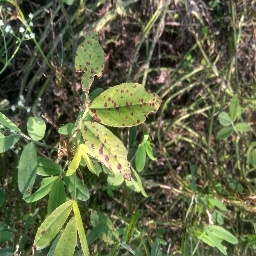GroundNut_Leaf: (90, 82, 161, 127), (75, 129, 132, 181), (33, 197, 74, 250), (75, 28, 104, 81), (18, 146, 38, 201), (205, 224, 239, 244), (26, 114, 46, 142), (232, 121, 251, 130), (230, 92, 240, 109), (220, 113, 230, 124)
